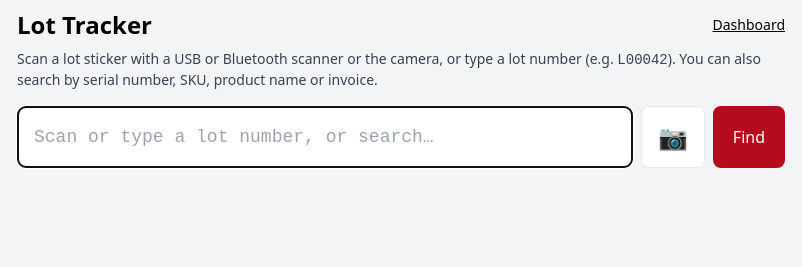
it: search › no matches → says so
Type "zzzz" into the field named "Lot number or search".
click(325, 137); type("zzzz")  # box [17, 106, 633, 168]
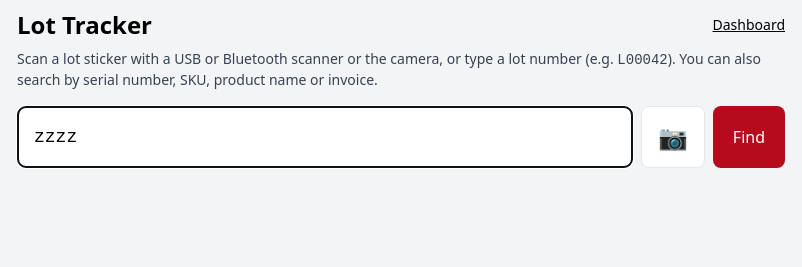
Submit the form, box [17, 106, 785, 168]
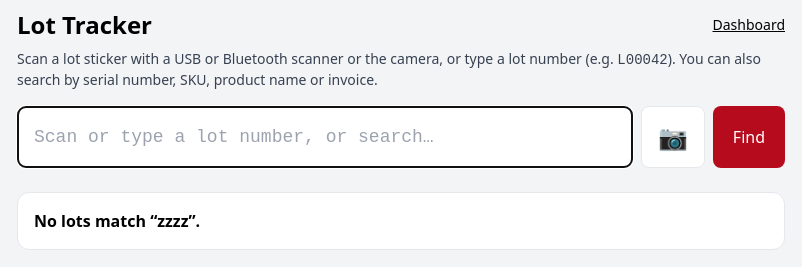
Check: the heading "No lots match “zzzz”." is shown, box [34, 210, 200, 232]
